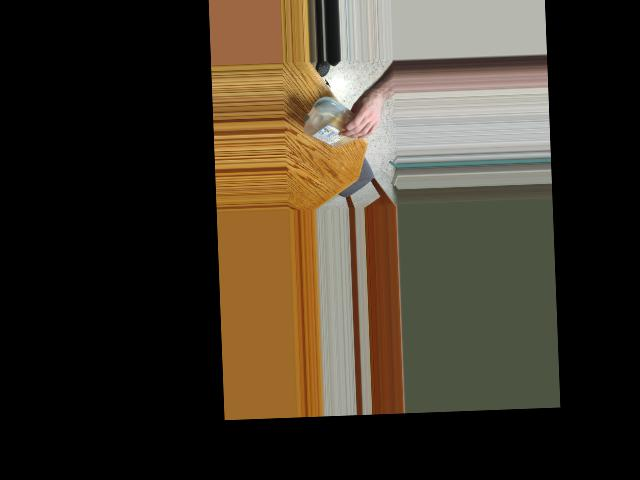cheese: (301, 96, 368, 151)
